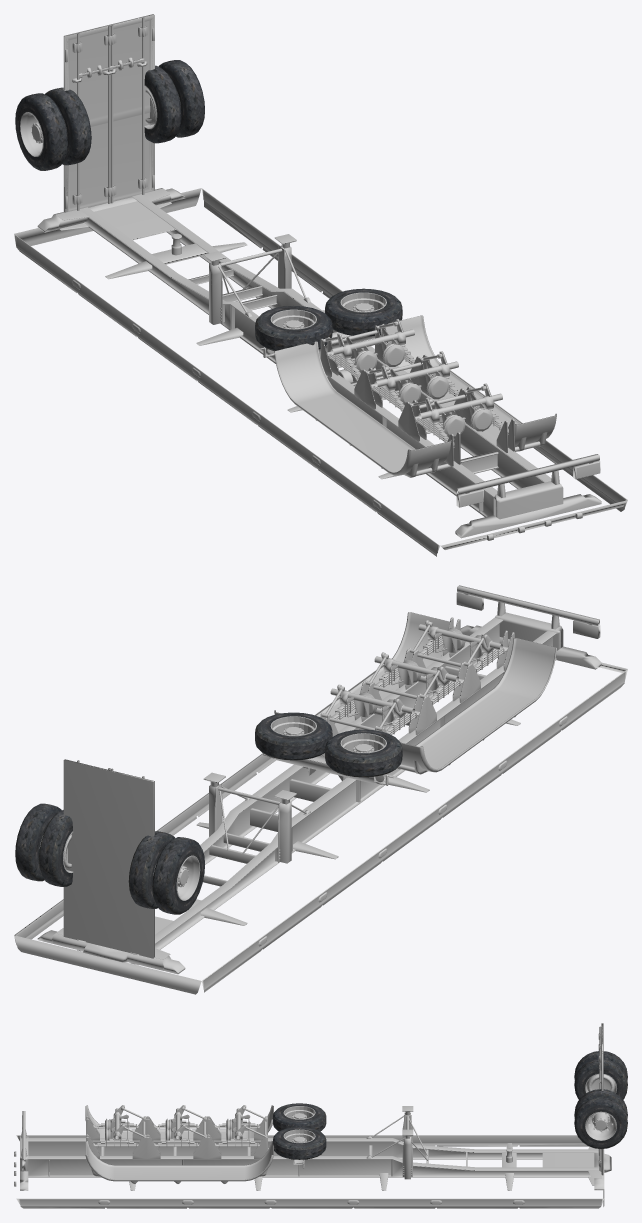
3 views of the same model, one above another, from view 1: azimuth 30°, elevation 25°; view 2: azimuth 150°, elevation 25°; view 3: azimuth 270°, elevation 25° (orthographic). The views are drawn at different scales.
Visible parts, largest first — view 1: trailer_main, door_right, wheels, door_left; view 2: trailer_main, door_right, door_left, wheels; view 3: trailer_main, wheels, door_right.
Boxes of the visible parts, x1=… form: trailer_main: x1=14, y1=188, x2=627, y2=556; door_right: x1=65, y1=14, x2=154, y2=211; wheels: x1=15, y1=60, x2=204, y2=170; door_left: x1=63, y1=15, x2=154, y2=212; trailer_main: x1=14, y1=585, x2=627, y2=994; door_right: x1=63, y1=759, x2=151, y2=958; door_left: x1=65, y1=760, x2=154, y2=958; wheels: x1=15, y1=803, x2=204, y2=914; trailer_main: x1=14, y1=1103, x2=611, y2=1208; wheels: x1=574, y1=1051, x2=627, y2=1149; door_right: x1=598, y1=1028, x2=603, y2=1175.
Bounding box in the file's own units: 247 × 255 × 1013.
